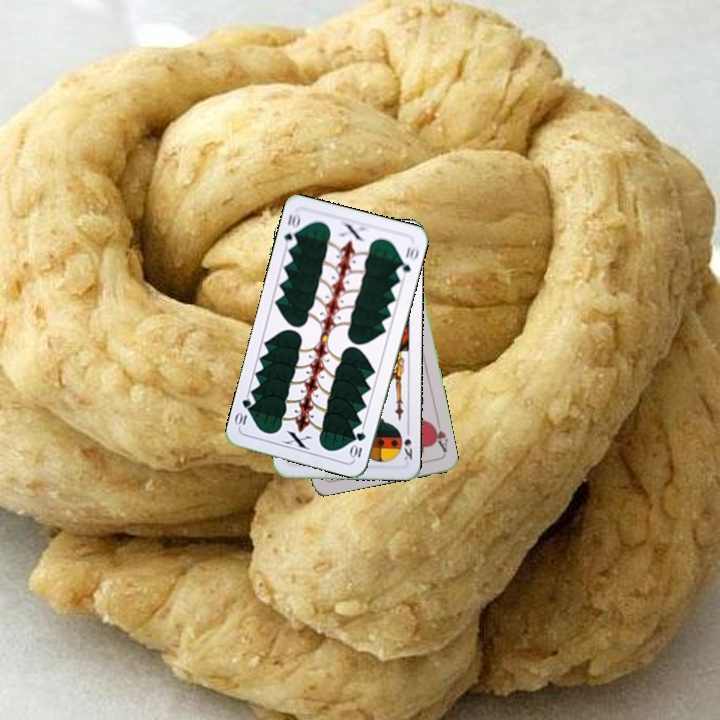G10: (280, 209, 303, 250), (347, 428, 368, 462)
HA: (427, 416, 450, 456)
SK: (399, 423, 415, 463)
